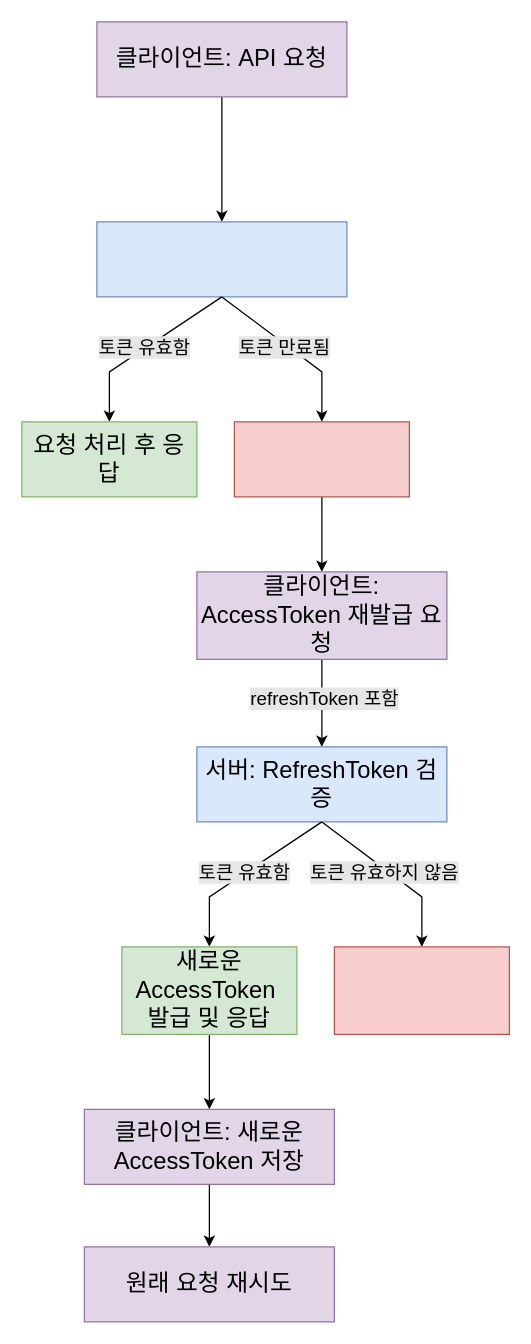
The diagram is 531 pixels wide and 1344 high, and some of its shapes have lost their labels. The centre of each missing label's shape, as x and y in pixels:
"401 반환" belongs at (x=321, y=459).
"403 반환" belongs at (x=421, y=990).
"서버: AccessToken 검증" belongs at (x=221, y=259).
